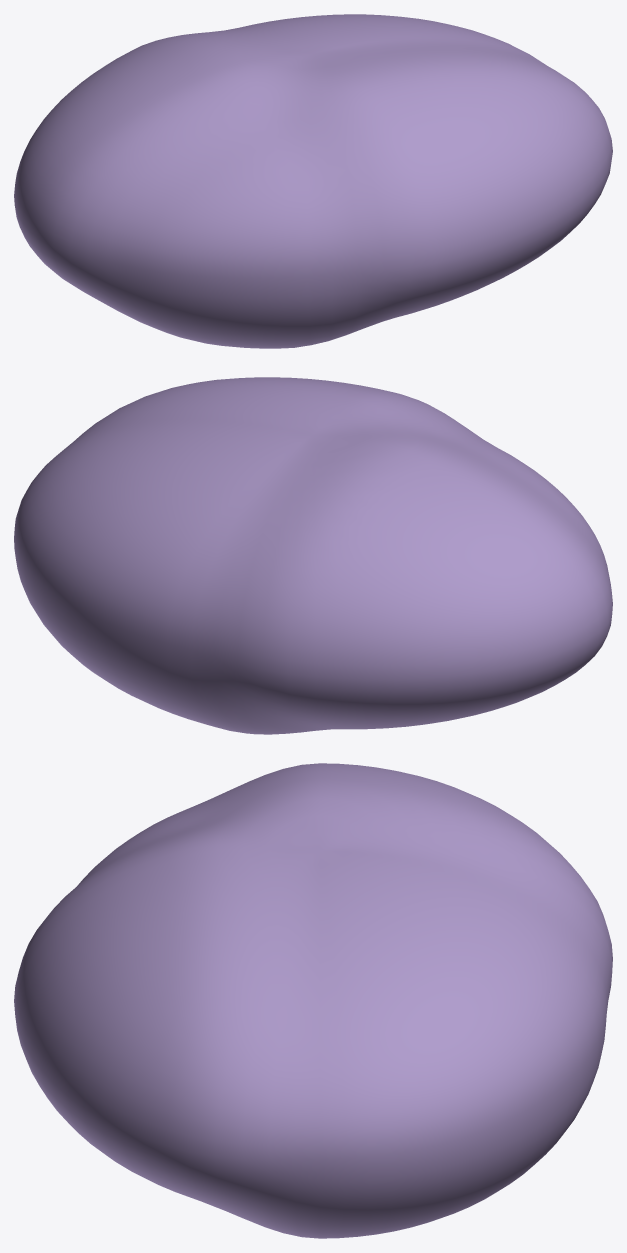
File: neuron-shells.glb
3 renders of one model, top to bottom at view 1: azimuth 30°, elevation 25°; view 2: azimuth 150°, elevation 25°; view 3: azimuth 270°, elevation 25°, orthographic. The views are drawn at different scales.
Parts seen in each view (by area): view 1: membrane; view 2: membrane; view 3: membrane.
Boxes of the visible parts, x1=… form: membrane: x1=14, y1=14, x2=612, y2=348; membrane: x1=14, y1=377, x2=612, y2=734; membrane: x1=14, y1=763, x2=612, y2=1238.
Size of the model in its own units: 2.87 by 1.35 by 2.24.
